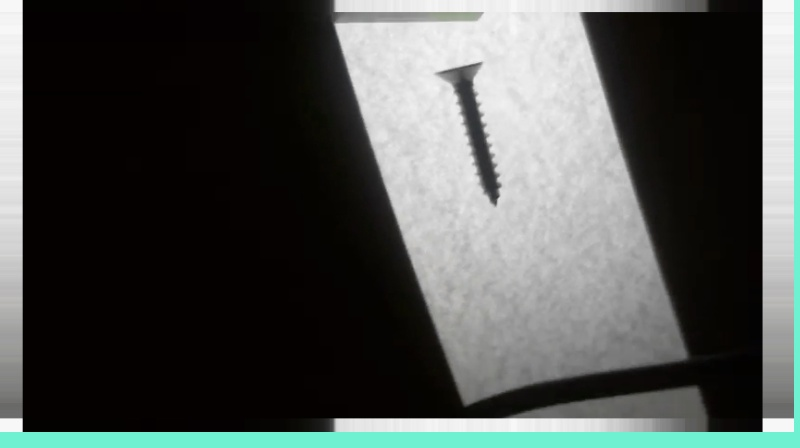S001: (430, 56, 504, 208)
